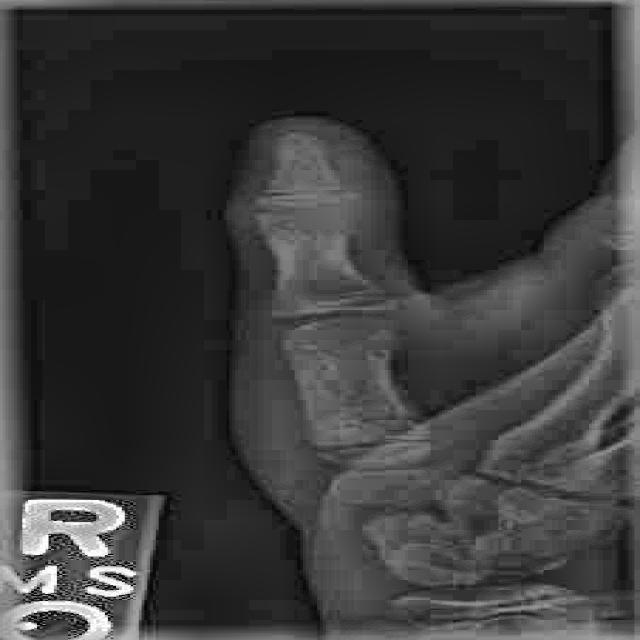fingers positive: (280, 402, 472, 448)
